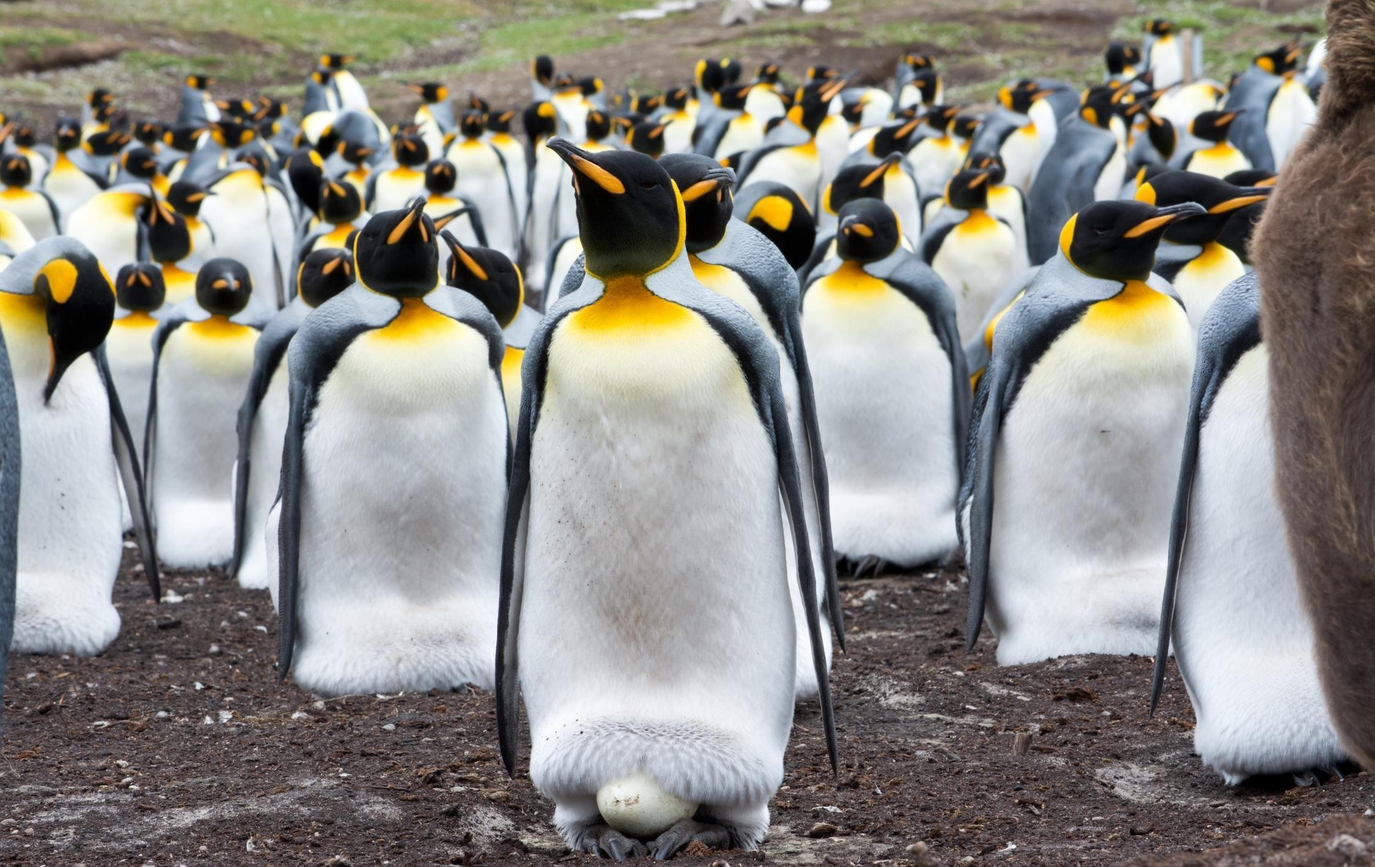Penguin: (497, 140, 816, 861), (1163, 182, 1368, 773), (269, 199, 510, 698), (959, 201, 1203, 666), (0, 236, 161, 655), (800, 199, 969, 569), (202, 235, 367, 579), (145, 258, 274, 569), (655, 144, 811, 378), (910, 158, 1063, 386), (441, 224, 553, 458), (78, 259, 180, 481), (1029, 86, 1125, 262), (441, 113, 524, 268), (509, 99, 576, 291), (195, 163, 284, 306), (1224, 43, 1316, 169), (821, 143, 920, 248), (762, 74, 852, 185), (58, 177, 160, 269), (869, 110, 948, 228), (967, 81, 1050, 193), (186, 117, 290, 204), (298, 163, 379, 248), (39, 122, 110, 218), (695, 79, 783, 155), (359, 127, 434, 212), (153, 201, 206, 317), (967, 147, 1030, 241), (424, 158, 488, 247), (1168, 110, 1251, 177), (1130, 11, 1198, 92), (318, 108, 387, 187), (0, 153, 59, 241), (398, 75, 457, 158), (167, 184, 217, 267), (304, 54, 373, 114), (280, 147, 327, 226), (1102, 94, 1160, 156), (10, 124, 59, 197), (1133, 108, 1182, 174), (113, 151, 176, 201), (1158, 74, 1213, 131), (1096, 39, 1142, 94), (184, 72, 230, 126), (621, 114, 671, 163), (518, 45, 559, 103), (661, 86, 696, 148), (86, 85, 124, 133), (565, 70, 611, 105), (581, 106, 615, 152), (900, 72, 936, 106)
